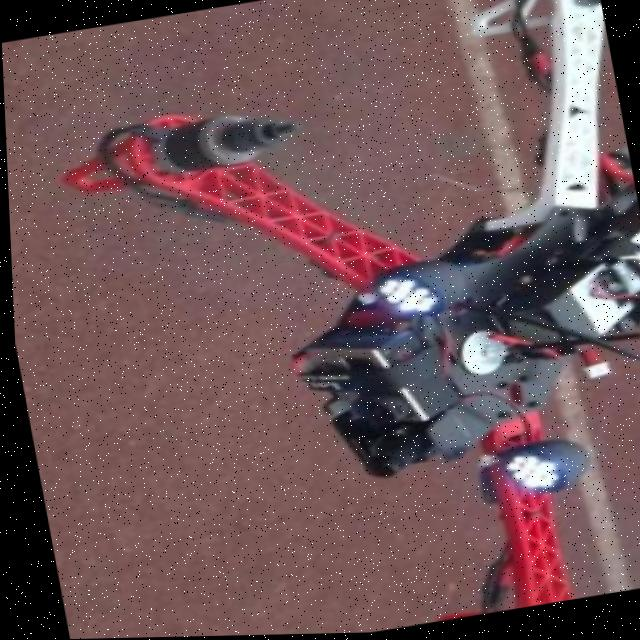drones: (10, 0, 640, 640)
